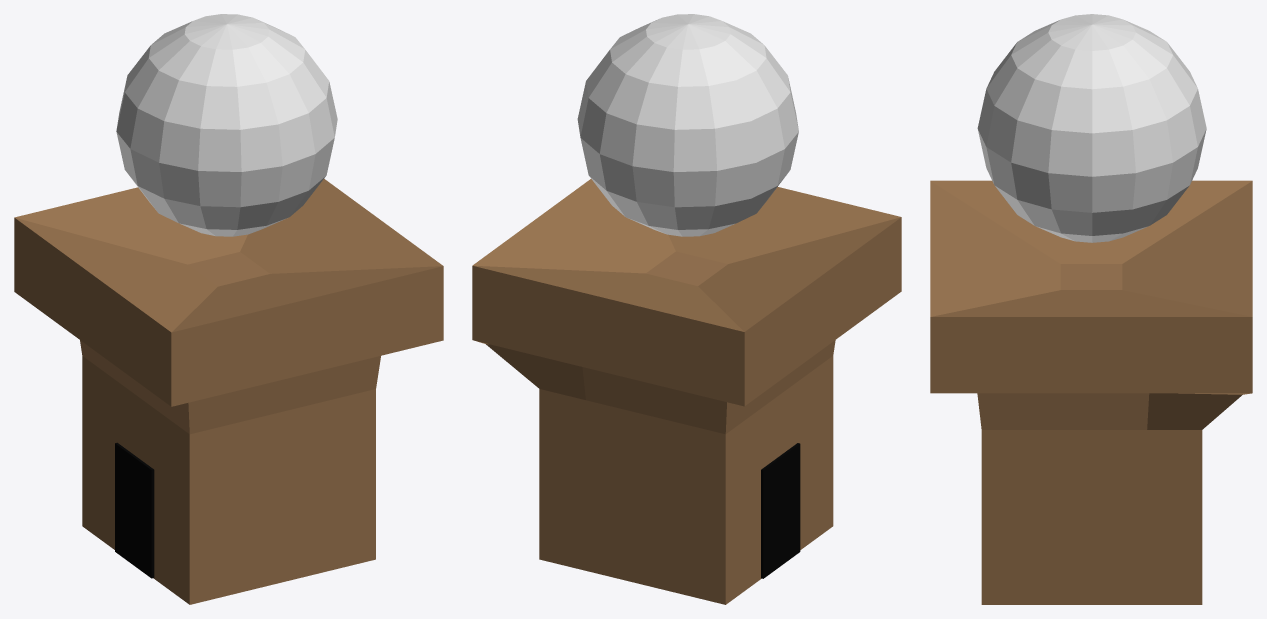
Rendered from Tower.Mage.glb.
The picture shows the model from 3 angles, left to right: view 1: azimuth 30°, elevation 25°; view 2: azimuth 150°, elevation 25°; view 3: azimuth 270°, elevation 25°; orthographic projection. The views are drawn at different scales.
Parts seen in each view (by area): view 1: Cube, Sphere, Cube.001; view 2: Cube, Sphere, Cube.001; view 3: Cube, Sphere.
Boxes of the visible parts, left/top/right/bottom form: Cube: left=14, top=179, right=443, bottom=604; Sphere: left=116, top=14, right=337, bottom=236; Cube.001: left=115, top=442, right=154, bottom=578; Cube: left=472, top=179, right=901, bottom=604; Sphere: left=577, top=14, right=798, bottom=236; Cube.001: left=761, top=443, right=800, bottom=578; Cube: left=930, top=180, right=1252, bottom=604; Sphere: left=977, top=14, right=1206, bottom=242.
Bounding box in the file's own units: 1.65 × 3.01 × 1.65.
